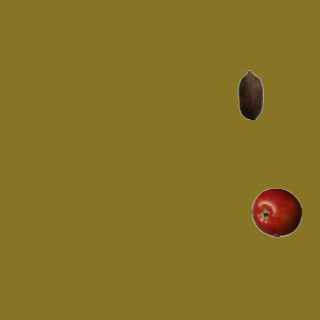Apple Braeburn: (251, 187, 301, 237)
Nut Pecan: (225, 69, 275, 119)
